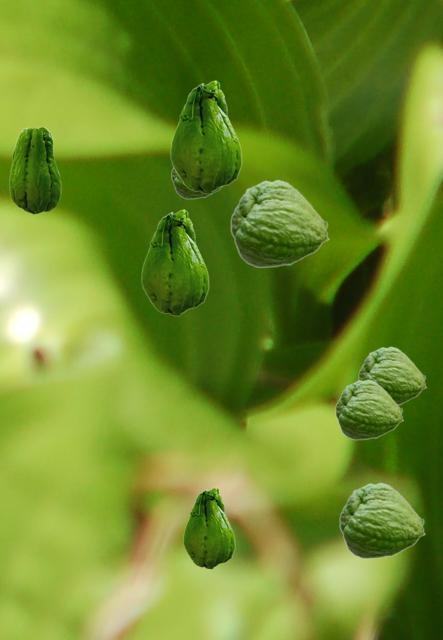sayote: (230, 179, 329, 267), (170, 80, 241, 193), (141, 209, 208, 315), (339, 482, 425, 558), (9, 126, 60, 213), (183, 487, 234, 568), (335, 379, 403, 439), (358, 346, 426, 405), (171, 168, 222, 198)
